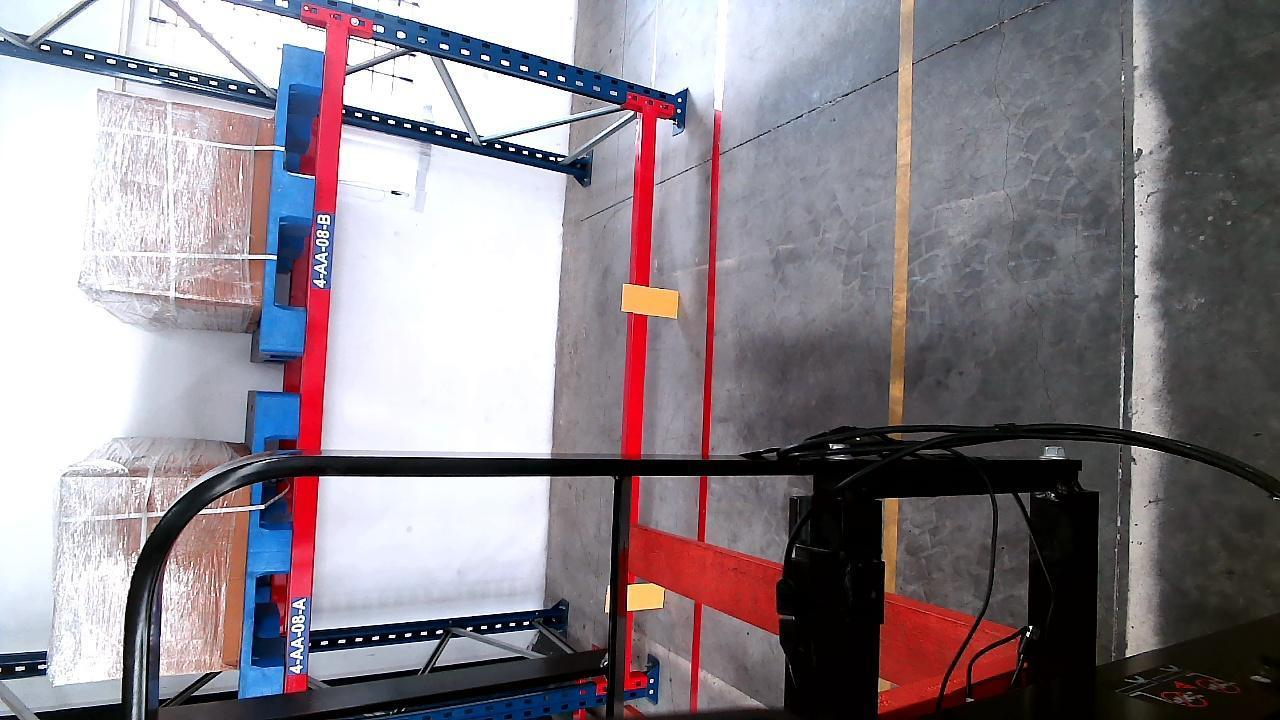h_rack: (298, 43, 344, 696), (623, 109, 636, 689)
orange_strip: (627, 285, 678, 316), (622, 583, 668, 612)
red_line: (702, 82, 726, 452)
small_pallet: (263, 57, 322, 354), (241, 420, 297, 693)
yellow_line: (888, 2, 915, 422)
